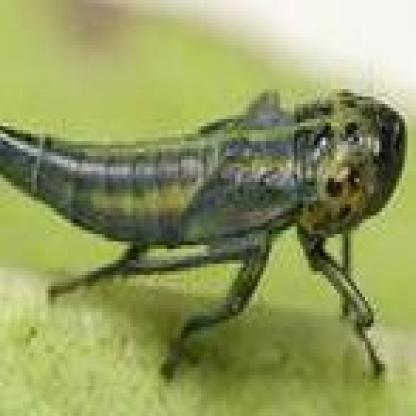Green-Leafhopper: (0, 85, 416, 372)
